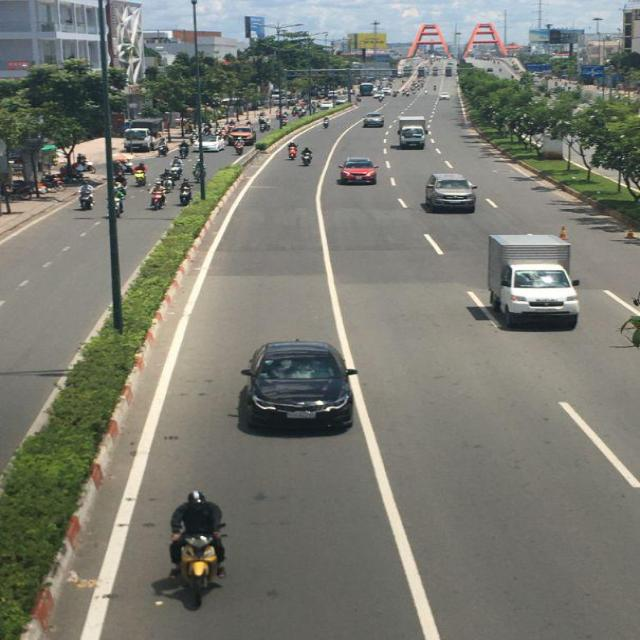bus: (360, 83, 376, 98)
car: (237, 340, 358, 436), (425, 172, 477, 214), (339, 156, 378, 186), (225, 124, 254, 142), (365, 114, 384, 128), (288, 141, 299, 159)
motorcycle: (172, 530, 226, 611), (76, 182, 95, 209), (302, 149, 313, 165)
truck: (491, 231, 581, 332), (123, 118, 168, 152), (397, 115, 426, 149)
